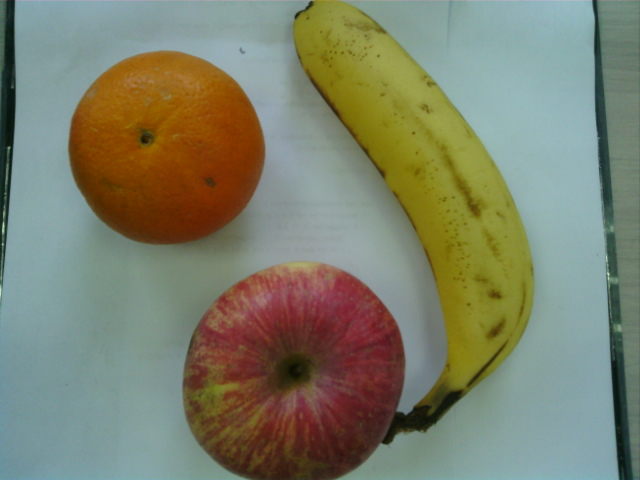normal_apple: (184, 257, 406, 480)
normal_banana: (293, 1, 537, 395)
normal_orange: (67, 50, 265, 247)
